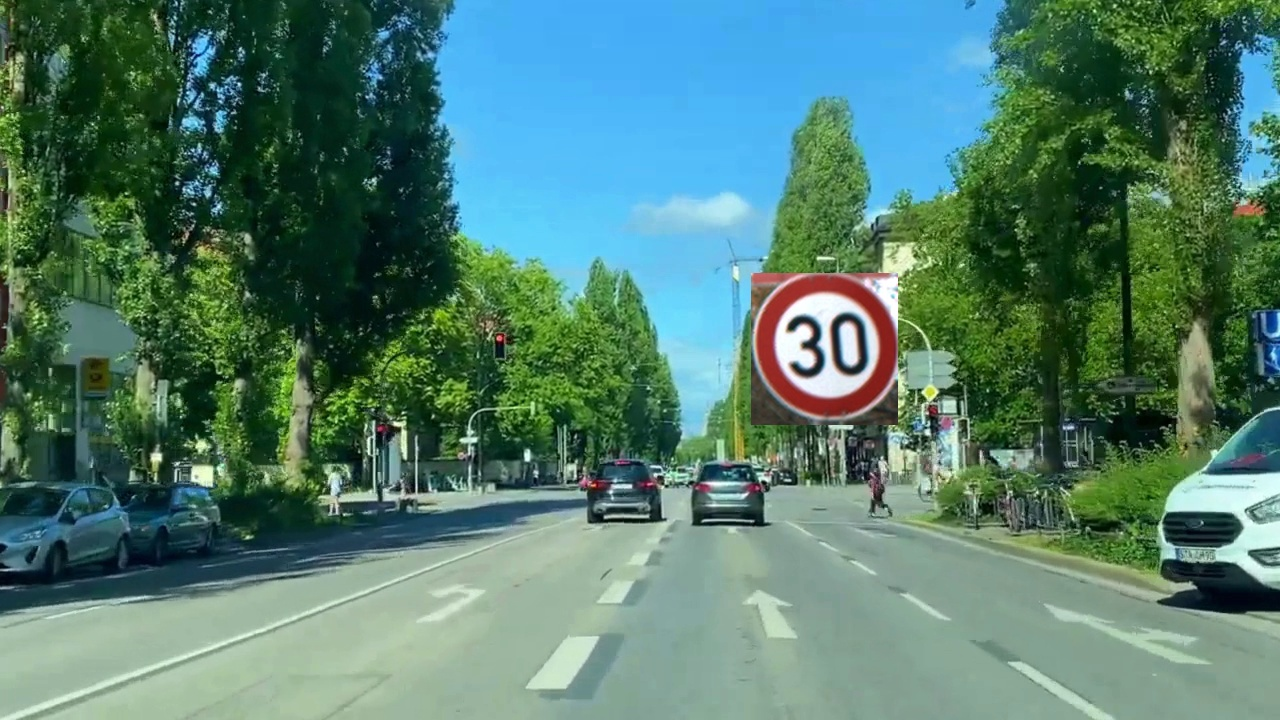Speed 30: (751, 273, 898, 425)
